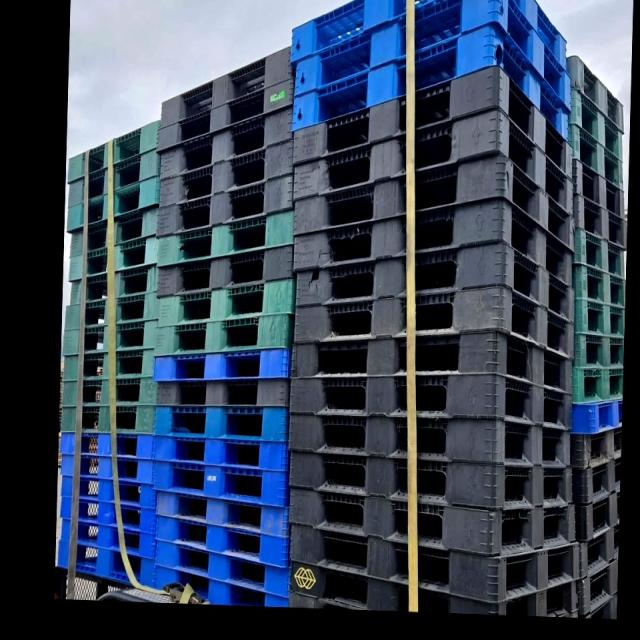non-igps: (286, 64, 593, 622), (150, 43, 292, 608), (287, 0, 572, 143), (60, 117, 164, 436), (56, 432, 157, 592)
